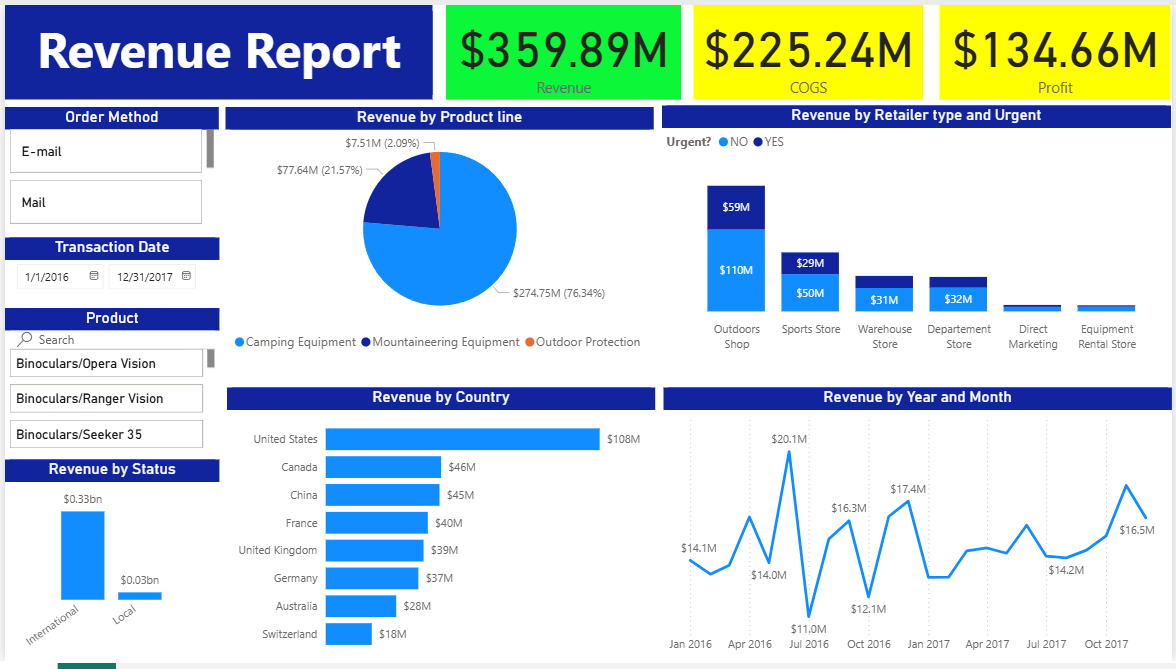

The dashboard page shown, as its layout file describes it:
{"tool":"powerbi","page":{"name":"Page 1","canvas":[1280,720],"ordinal":0},"visuals":[{"type":"clusteredBarChart","title":"Revenue by Country ","fields":{"Category":["Country Table.Country ","Country Table. City"],"Y":["Sum(Sales Table.Revenue)"]},"box":[243.3,420,470,300],"z":0},{"type":"pieChart","title":"Revenue by Product line","fields":{"Category":["Product Table.Product line"],"Y":["Sum(Sales Table.Revenue)"]},"box":[241.7,111.7,470,276.7],"z":1000},{"type":"lineChart","title":"Revenue by Year and Month","fields":{"Y":["Sum(Sales Table.Revenue)"],"Category":["Sales Table.Trans Date.Variation.Date Hierarchy.Year","Sales Table.Trans Date.Variation.Date Hierarchy.Month"]},"box":[722,420,558,300],"z":2000},{"type":"columnChart","title":"Revenue by Retailer type and Urgent","fields":{"Y":["Sum(Sales Table.Revenue)"],"Category":["Sales Table.Retailer type"],"Series":["Sales Table.Urgent?"]},"box":[721.7,110,558.3,276.7],"z":3000},{"type":"card","title":"Revenue","fields":{"Values":["Sum(Sales Table.Revenue)"]},"box":[484,0,258,104],"z":4000},{"type":"card","fields":{"Values":["Sum(Sales Table.COGS)"]},"box":[756,0,252,104],"z":5000},{"type":"card","fields":{"Values":["Sum(Sales Table.Profit)"]},"box":[1025.7,0,253.5,103.7],"z":6000},{"type":"advancedSlicerVisual","title":"Order Method","fields":{"Values":["Sales Table.Order method type"]},"box":[0,112.2,234.4,134.4],"z":7000},{"type":"slicer","title":"Transaction Date","fields":{"Values":["Sales Table.Trans Date"]},"box":[0,255.2,235.4,62.6],"z":8000},{"type":"advancedSlicerVisual","title":"Product","fields":{"Values":["Product Table.Product type/Product"]},"box":[0,332.6,235.4,159.7],"z":9000},{"type":"shape","box":[0,0,469.2,103.7],"z":10000},{"type":"textbox","box":[0,6.6,469.2,92.2],"z":11000},{"type":"columnChart","title":"Revenue by Status","fields":{"Y":["Sum(Sales Table.Revenue)"],"Category":["Sales Table.Status"]},"box":[0,498.8,235.4,220.6],"z":12000}]}

Visuals, with their boxes in screenshot pixels (x1, y1, x2, y2), scaled from the page's 1280x720 canvas onto the 1176x669 screenshot:
"Revenue by Country " clusteredBarChart: locate(224, 390, 655, 668)
"Revenue by Product line" pieChart: locate(222, 104, 654, 361)
"Revenue by Year and Month" lineChart: locate(663, 390, 1175, 668)
"Revenue by Retailer type and Urgent" columnChart: locate(663, 102, 1175, 359)
"Revenue" card: locate(445, 0, 682, 97)
card - Sum(Sales Table.COGS): locate(695, 0, 926, 97)
card - Sum(Sales Table.Profit): locate(942, 0, 1175, 96)
"Order Method" advancedSlicerVisual: locate(0, 104, 215, 229)
"Transaction Date" slicer: locate(0, 237, 216, 295)
"Product" advancedSlicerVisual: locate(0, 309, 216, 457)
shape: locate(0, 0, 431, 96)
textbox: locate(0, 6, 431, 92)
"Revenue by Status" columnChart: locate(0, 463, 216, 668)
